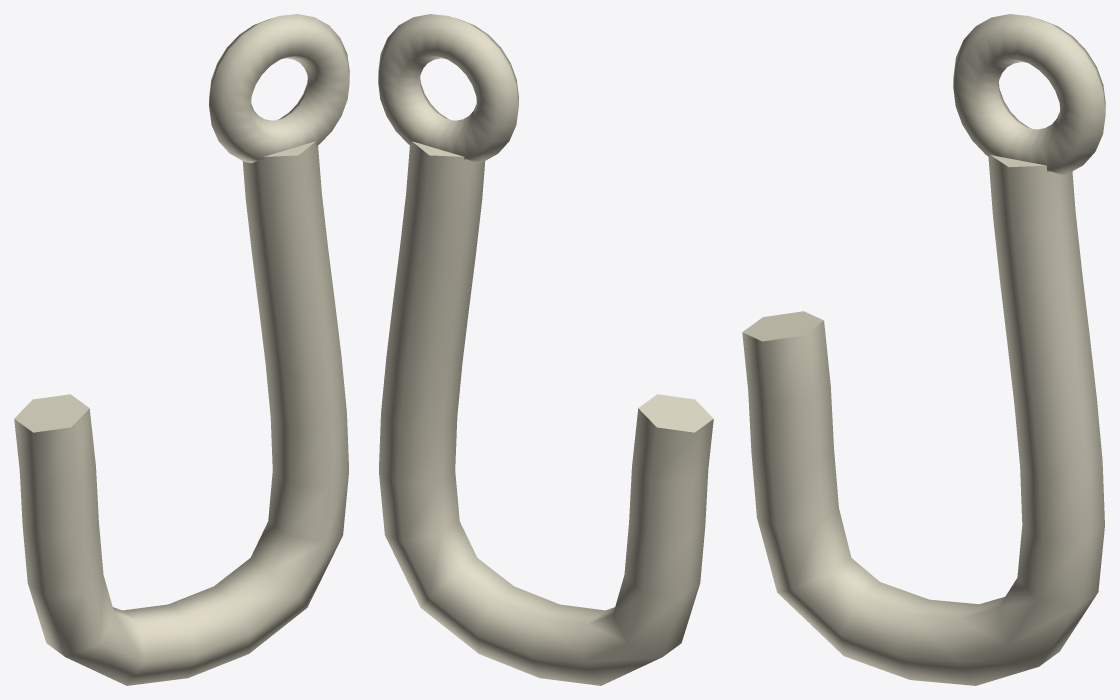
The model's file is primitive-crafting-workshop-bone-fishhook-817fa9df__21540.glb.
3 renders of one model, left to right at view 1: azimuth 30°, elevation 25°; view 2: azimuth 150°, elevation 25°; view 3: azimuth 330°, elevation 25°, orthographic. The views are drawn at different scales.
Visible parts, largest first — view 1: bone-fishhook; view 2: bone-fishhook; view 3: bone-fishhook.
Part boxes in pixels (x1,y1,x2,y2): bone-fishhook: [14, 14, 349, 685]; bone-fishhook: [378, 14, 713, 685]; bone-fishhook: [742, 14, 1105, 685].
Size of the model in its own units: 0.0788 by 0.1457 by 0.016.
